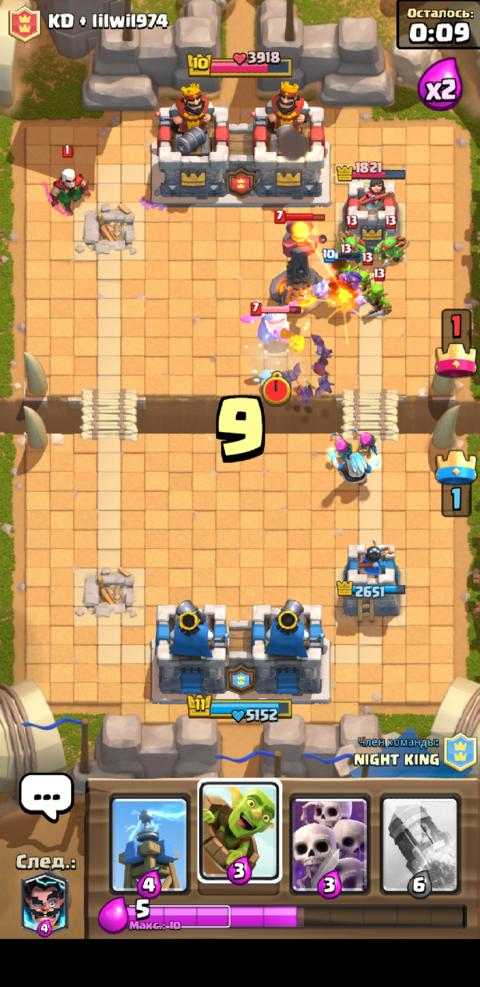ally_archer: (327, 430, 352, 459)
ally_bat: (309, 359, 334, 397), (268, 361, 301, 387), (308, 332, 333, 360), (296, 379, 314, 405)
ally_ice_wizard: (326, 448, 381, 486)
enemy_baby_dragon: (237, 298, 300, 345)
enemy_goblin: (360, 266, 392, 318), (337, 241, 359, 273), (356, 251, 374, 285)
enemy_inferno_tower: (267, 208, 331, 308)
enemy_magic_archer: (40, 142, 90, 216), (350, 428, 377, 455)
enemy_spear_goblin: (372, 214, 409, 265), (332, 213, 368, 253)
